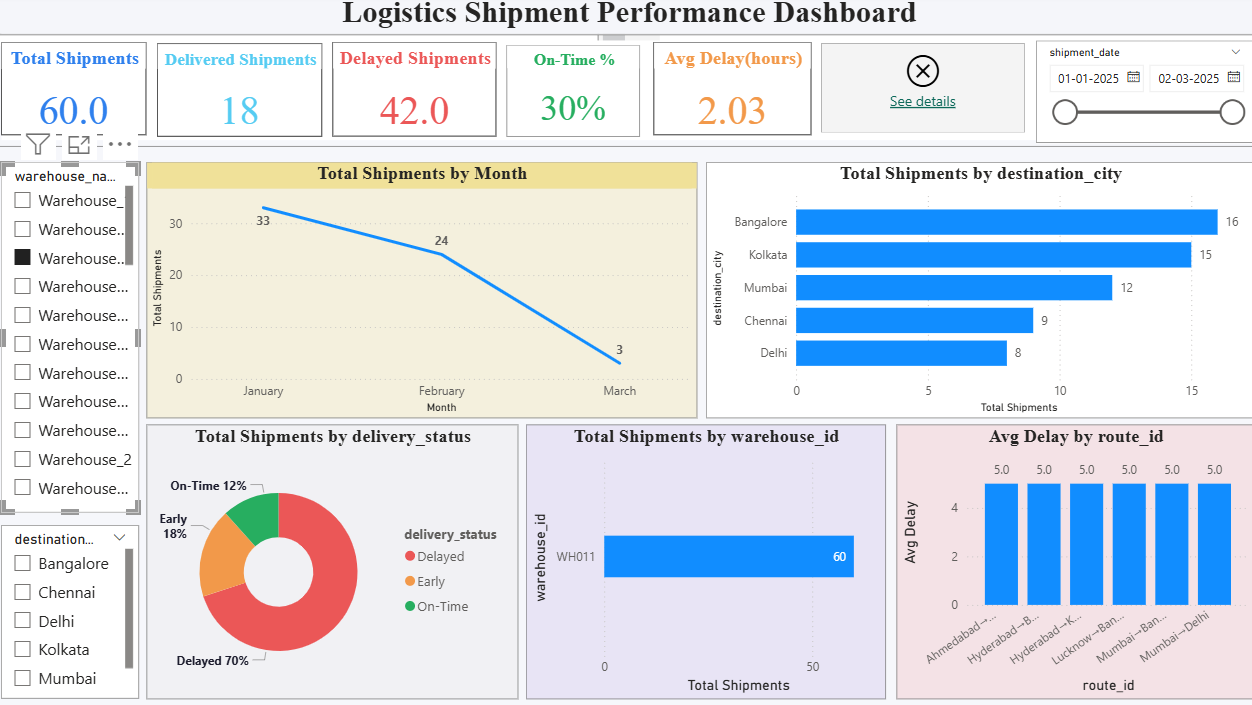

Layout of this report page (visuals, bound fields, positions):
{"tool":"powerbi","page":{"name":"Page 1","canvas":[1280,720],"ordinal":0},"visuals":[{"type":"cardVisual","box":[0,0,1279.4,52.4],"z":0},{"type":"lineChart","fields":{"Category":["dim_date.shipment_date.Variation.Date Hierarchy.Month"],"Y":["fact_logistics.Total Shipments"]},"box":[152.9,169.6,555.7,258.9],"z":2000},{"type":"donutChart","fields":{"Category":["fact_logistics.delivery_status"],"Y":["fact_logistics.Total Shipments"]},"box":[152.9,434.6,375.5,277.1],"z":3000},{"type":"barChart","fields":{"Y":["fact_logistics.Total Shipments"],"Category":["dim_warehouse.warehouse_name"]},"box":[536,434.6,363.4,277.1],"z":4000},{"type":"columnChart","fields":{"Y":["fact_logistics.Avg Delay Hours"],"Category":["fact_logistics.route_id"]},"box":[910,434.6,361.9,277.1],"z":5000},{"type":"barChart","fields":{"Category":["fact_logistics.destination_city"],"Y":["fact_logistics.Total Shipments"]},"box":[717.7,169.6,554.2,258.9],"z":6000},{"type":"cardVisual","title":"Logistics Shipment Performance Dashboard","fields":{"Data":["fact_logistics.Total Shipments"]},"box":[0,0,1278.8,40.9],"z":7000},{"type":"cardVisual","title":"Logistics Shipment Performance Dashboard","fields":{"Data":["fact_logistics.Total Shipments"]},"box":[0,40.9,1279.5,113.6],"z":7001},{"type":"cardVisual","title":"Total Shipments","fields":{"Data":["fact_logistics.Total Shipments"]},"box":[6.1,48.5,165,101.5],"z":7007},{"type":"cardVisual","title":"Delivered Shipments","fields":{"Data":["fact_logistics.Delivered Shipments"]},"box":[171.1,46.9,169.6,101.5],"z":7009},{"type":"cardVisual","title":"Delayed Shipments","fields":{"Data":["fact_logistics.Delayed Shipments"]},"box":[351.3,46.9,165,101.5],"z":7010},{"type":"cardVisual","title":"On-Time %","fields":{"Data":["fact_logistics.On-Time %"]},"box":[516.3,48.5,163.5,101.5],"z":7011},{"type":"cardVisual","title":"Avg Delay(hours)","fields":{"Data":["fact_logistics.Avg Delay Hours"]},"box":[676.8,48.5,159,101.5],"z":7012},{"type":"slicer","fields":{"Values":["dim_date.shipment_date"]},"box":[1032.7,46.9,239.2,103],"z":7013},{"type":"slicer","fields":{"Values":["dim_warehouse.warehouse_name"]},"box":[6.1,169.6,139.3,354.3],"z":7014},{"type":"slicer","fields":{"Values":["fact_logistics.destination_city"]},"box":[6.1,536,139.3,175.6],"z":7015},{"type":"cardVisual","title":"Highest Delay Route","fields":{"Data":["fact_logistics.Highest Delay Route"]},"box":[835.8,46.9,196.8,101.5],"z":7016}]}

Visuals, with their boxes on the page's 1280x720 design canvas (x1, y1, x2, y2). These are canvas units, not pixel positions in the 1252x705 screenshot, which may show the page scaled, cropped or inside an application window:
cardVisual: l=0, t=0, r=1279, b=52
lineChart - dim_date.shipment_date.Variation.Date Hierarchy.Month x fact_logistics.Total Shipments: l=153, t=170, r=709, b=428
donutChart - fact_logistics.delivery_status x fact_logistics.Total Shipments: l=153, t=435, r=528, b=712
barChart - fact_logistics.Total Shipments x dim_warehouse.warehouse_name: l=536, t=435, r=899, b=712
columnChart - fact_logistics.Avg Delay Hours x fact_logistics.route_id: l=910, t=435, r=1272, b=712
barChart - fact_logistics.destination_city x fact_logistics.Total Shipments: l=718, t=170, r=1272, b=428
"Logistics Shipment Performance Dashboard" cardVisual: l=0, t=0, r=1279, b=41
"Logistics Shipment Performance Dashboard" cardVisual: l=0, t=41, r=1280, b=154
"Total Shipments" cardVisual: l=6, t=48, r=171, b=150
"Delivered Shipments" cardVisual: l=171, t=47, r=341, b=148
"Delayed Shipments" cardVisual: l=351, t=47, r=516, b=148
"On-Time %" cardVisual: l=516, t=48, r=680, b=150
"Avg Delay(hours)" cardVisual: l=677, t=48, r=836, b=150
slicer - dim_date.shipment_date: l=1033, t=47, r=1272, b=150
slicer - dim_warehouse.warehouse_name: l=6, t=170, r=145, b=524
slicer - fact_logistics.destination_city: l=6, t=536, r=145, b=712
"Highest Delay Route" cardVisual: l=836, t=47, r=1033, b=148
